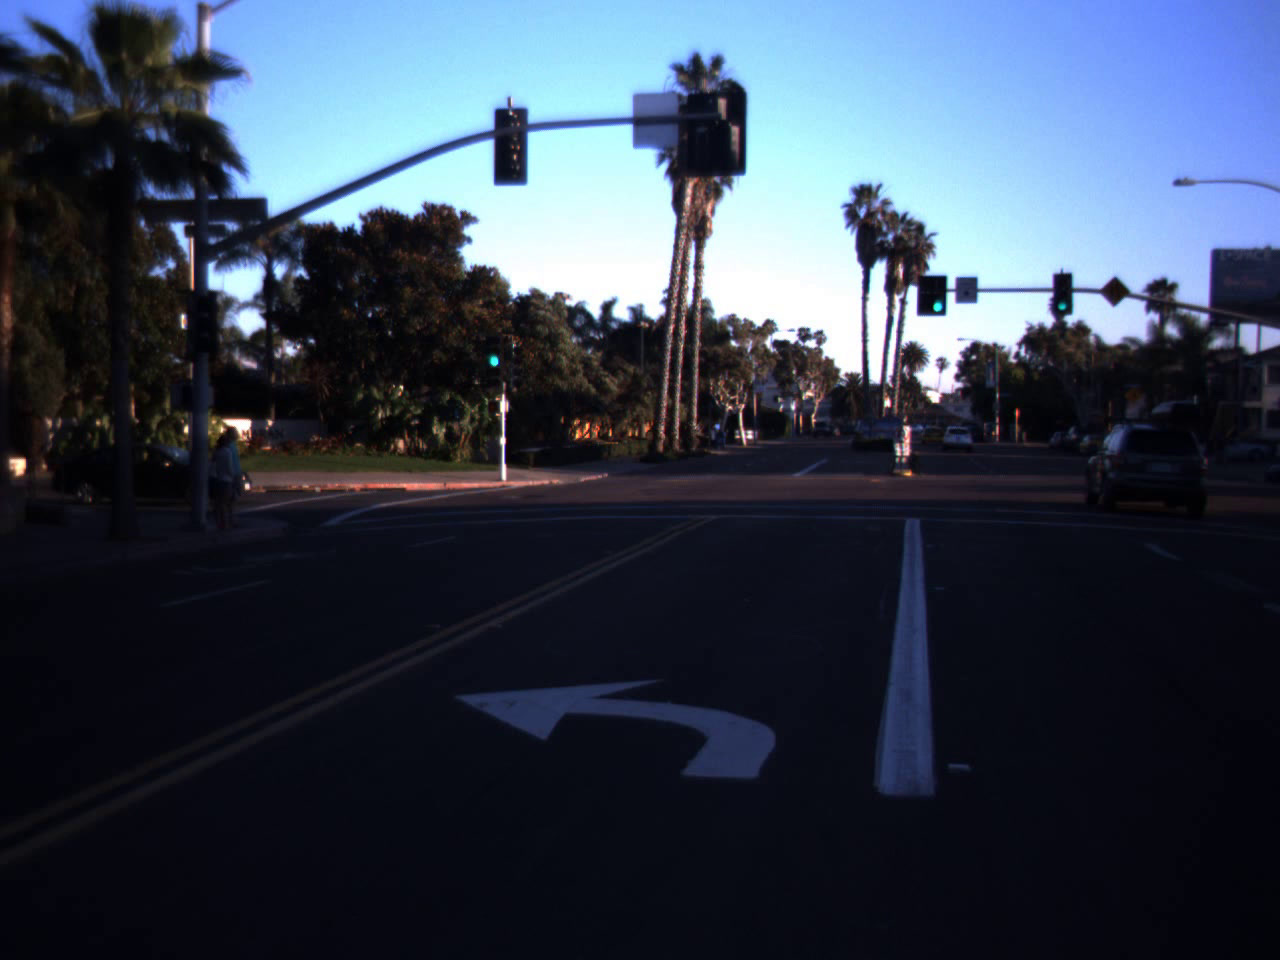go: (484, 325, 505, 370), (926, 275, 950, 315), (1052, 283, 1073, 313)
